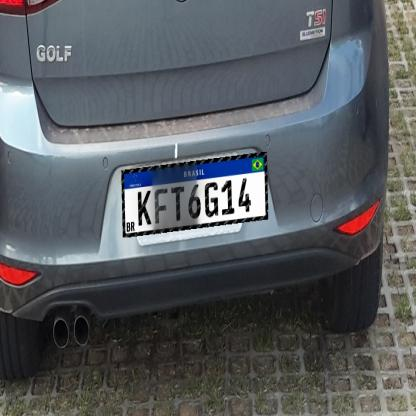PlacaM: (122, 152, 268, 237)
